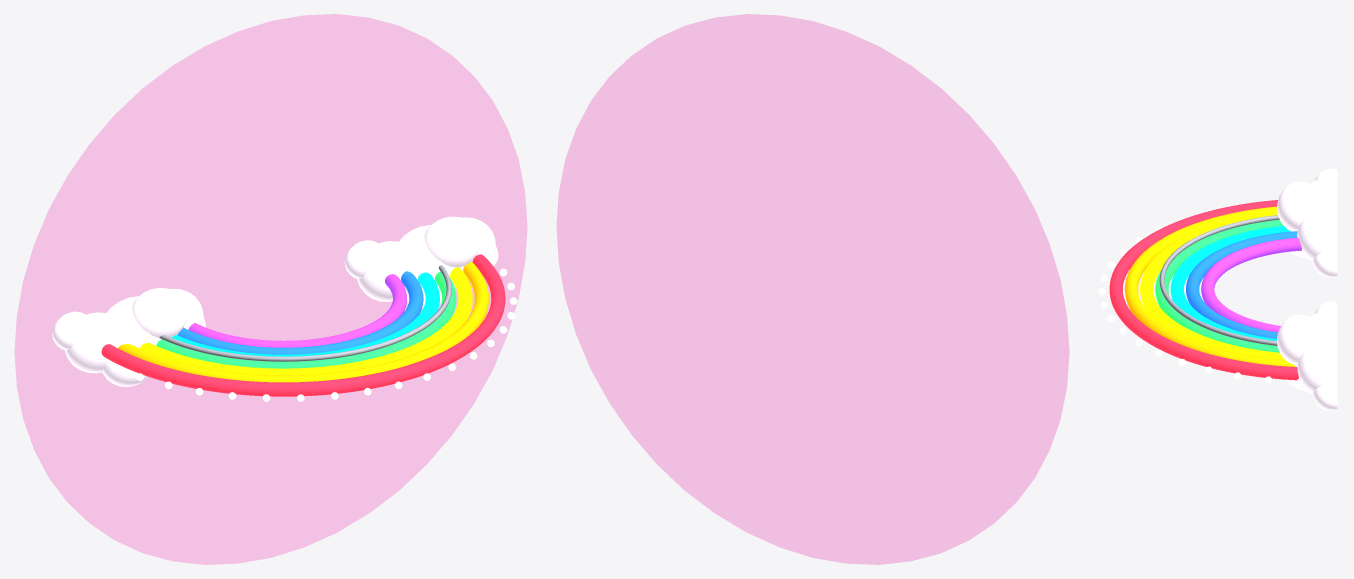
File: arche.glb
3 views of the same model, side by side, from view 1: azimuth 30°, elevation 25°; view 2: azimuth 150°, elevation 25°; view 3: azimuth 270°, elevation 25° (orthographic). The views are drawn at different scales.
Parts seen in each view (by area): view 1: lueur, tube0, tube1, tube2, tube3, tube5, tube6, nuage_d3, nuage_g3, rail, nuage_g2, tube4 (+6 smaller); view 2: lueur; view 3: tube0, tube1, tube2, tube3, tube6, tube5, tube4, nuage_d1, nuage_g1, nuage_g3, nuage_d3, rail (+4 smaller).
Part boxes in pixels (x1,y1,x2,y2): lueur: (14, 14, 527, 564); tube0: (101, 254, 505, 396); tube1: (118, 261, 489, 382); tube2: (140, 267, 472, 375); tube3: (156, 271, 456, 368); tube5: (177, 271, 423, 354); tube6: (188, 274, 406, 347); nuage_d3: (424, 216, 479, 267); nuage_g3: (132, 288, 187, 337); rail: (159, 265, 451, 361); nuage_g2: (64, 312, 114, 373); tube4: (171, 272, 439, 356); lueur: (556, 14, 1069, 564); tube0: (1109, 200, 1298, 380); tube1: (1124, 206, 1294, 366); tube2: (1140, 213, 1284, 359); tube3: (1155, 219, 1283, 352); tube6: (1201, 237, 1301, 332); tube5: (1186, 231, 1297, 338); tube4: (1170, 225, 1290, 340); nuage_d1: (1297, 340, 1337, 394); nuage_g1: (1297, 208, 1337, 261); nuage_g3: (1277, 181, 1321, 231); nuage_d3: (1277, 314, 1321, 364); rail: (1159, 215, 1279, 345).
Size of the model in its own units: 11.2 by 11.2 by 4.91.
